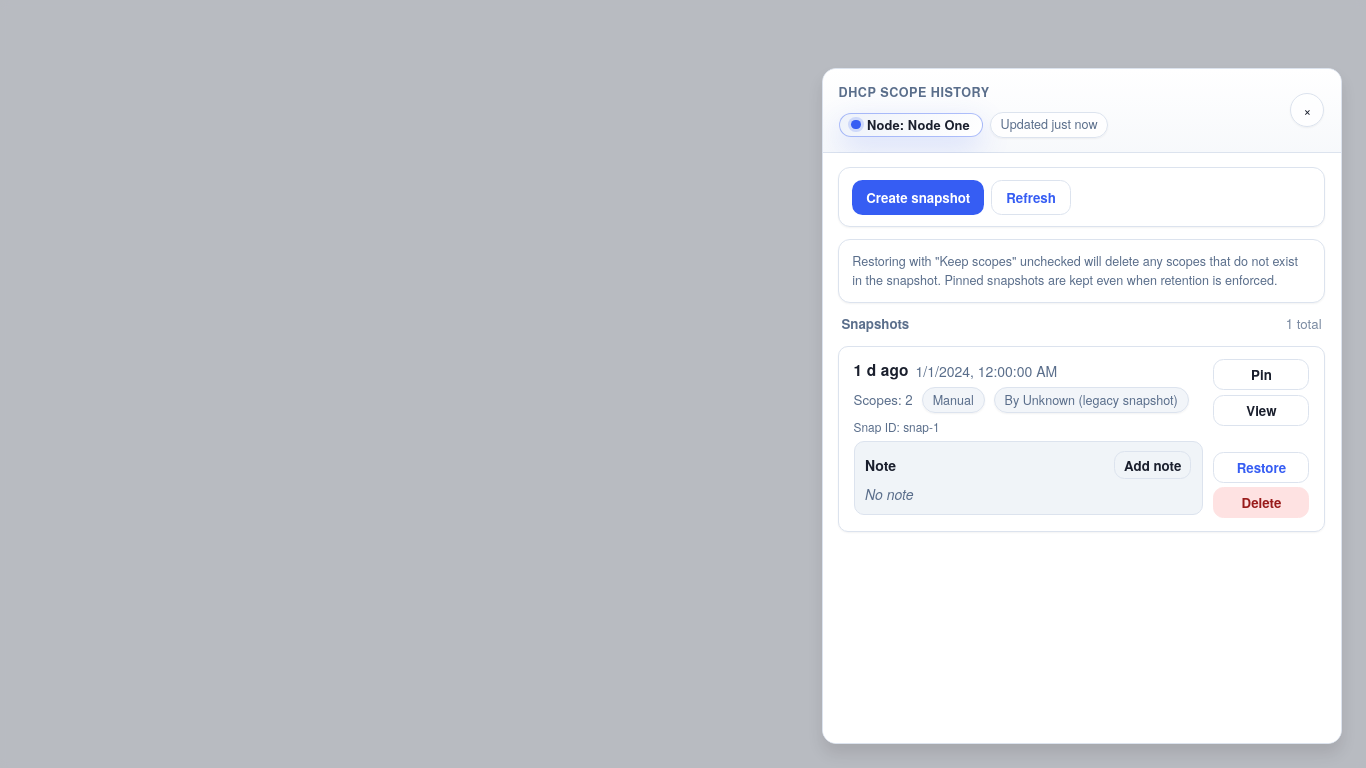
Test case: DhcpSnapshotDrawer › allows adding and saving a note
The image size is (1366, 768).
Click the button "Add note" at x=1153, y=465, box top-left (1114, 451), bottom-right (1191, 479)
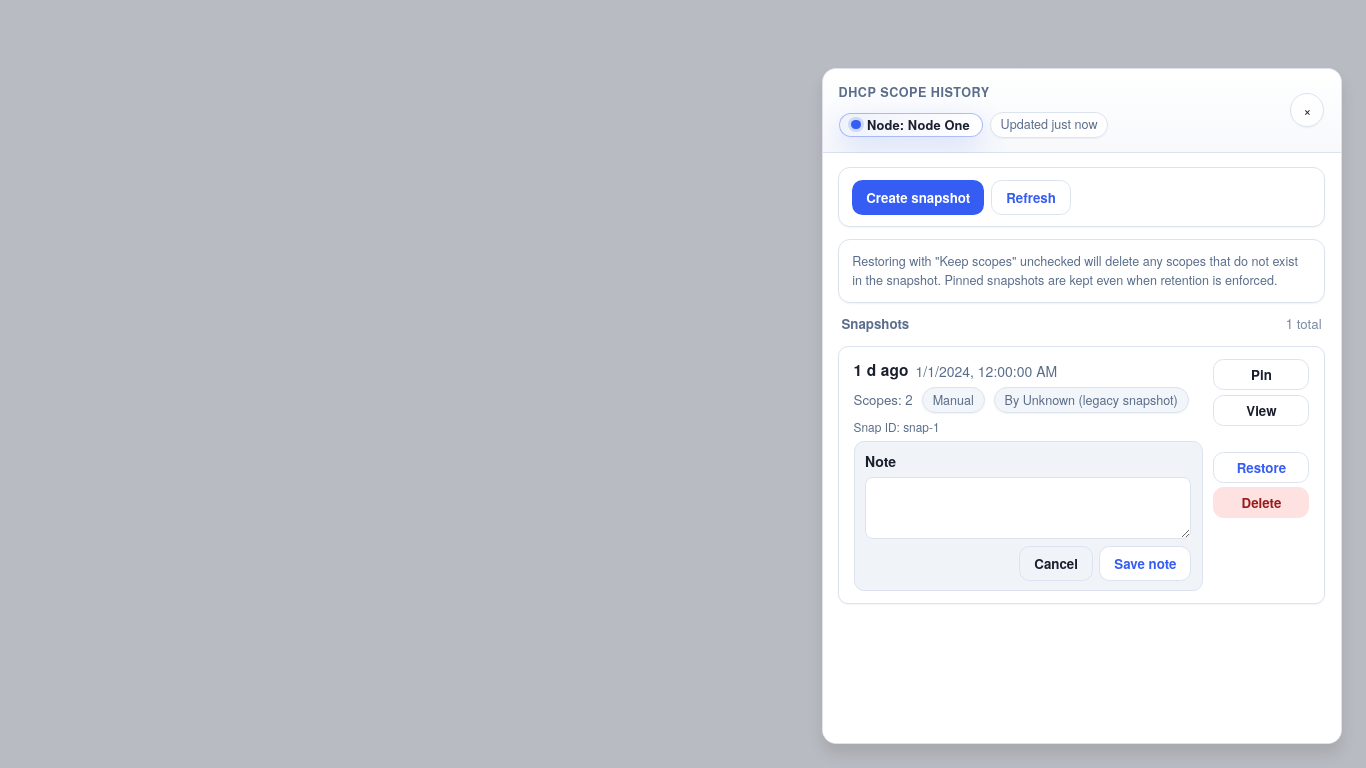
Type "  Saved note  " into the text box at x=1028, y=508, box top-left (865, 477), bottom-right (1191, 539)
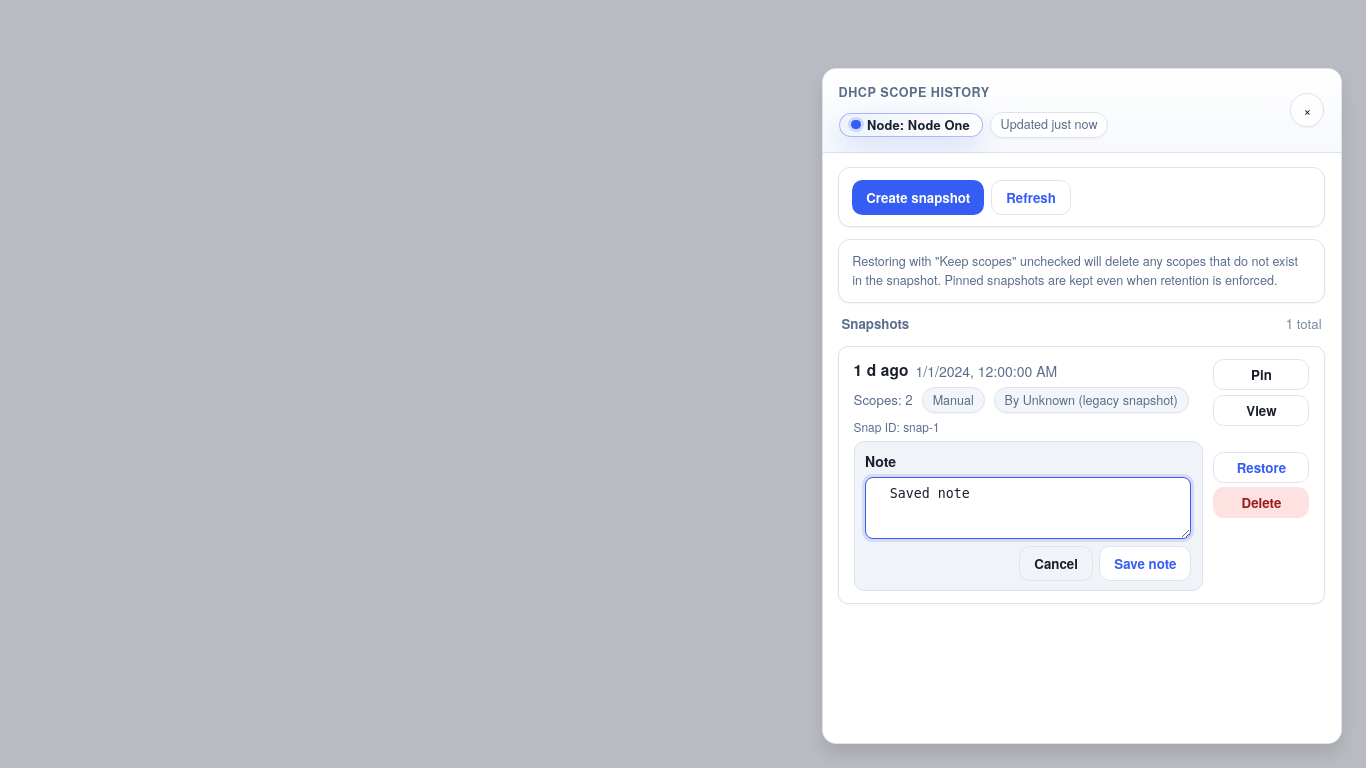
Click the button "Save note" at x=1145, y=563, box top-left (1099, 546), bottom-right (1192, 581)
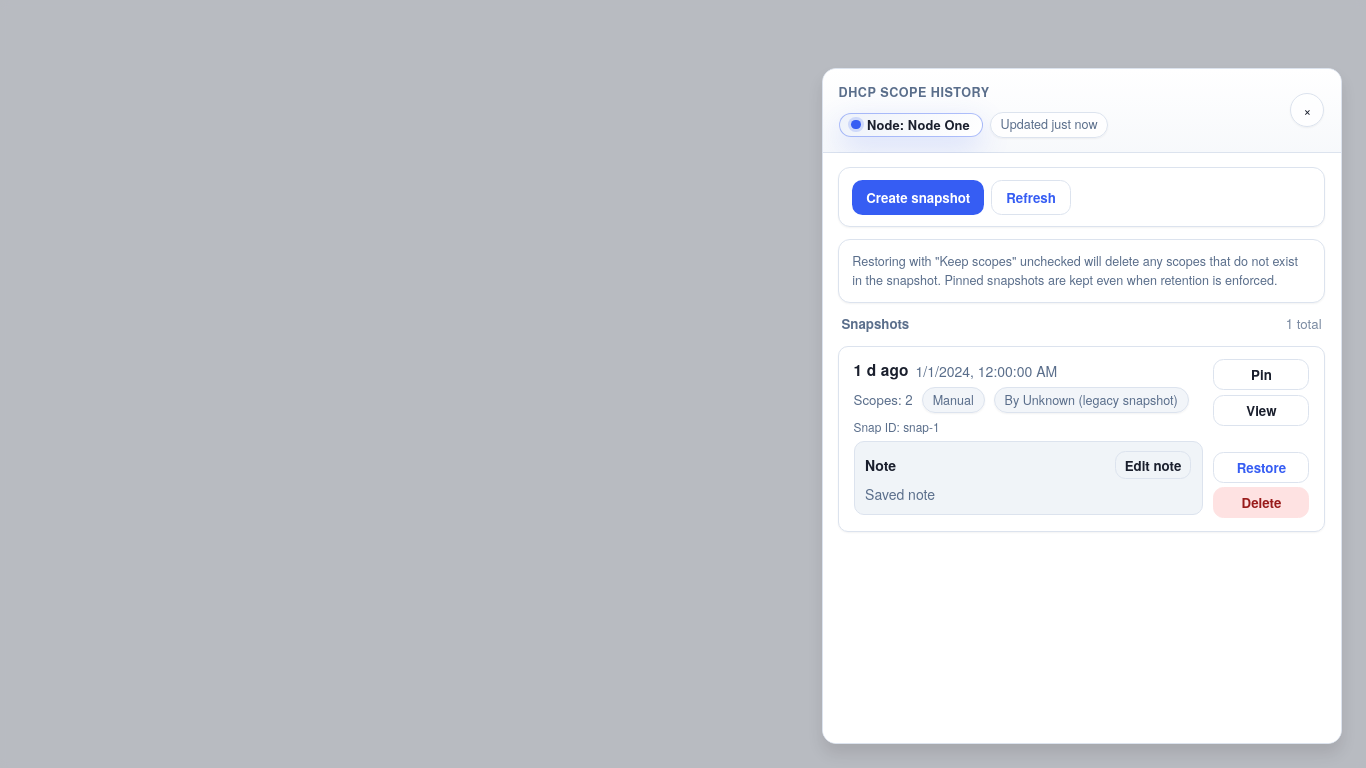
expect the text "Saved note" is shown: met, box top-left (865, 484), bottom-right (935, 504)
